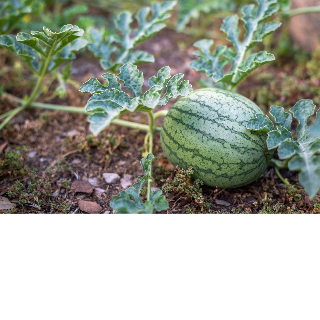dua_hau: (160, 87, 276, 190)
